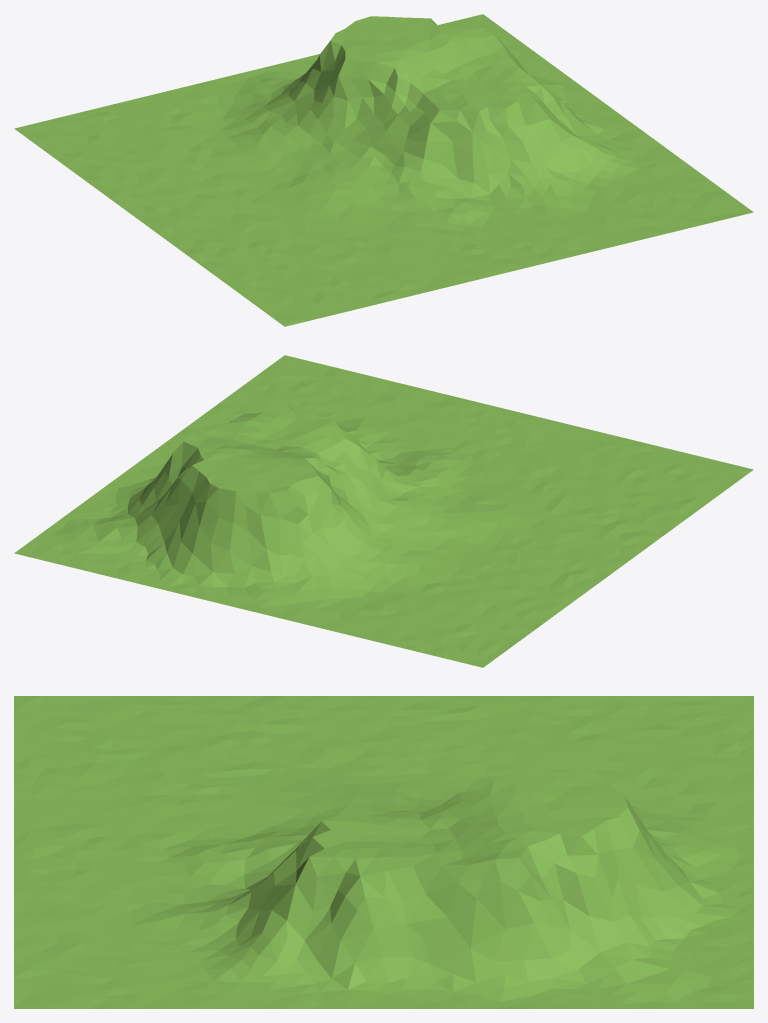
File: MT_Terrain_L_c_19_LOD.fbx
The picture shows the model from 3 angles, top to bottom: view 1: azimuth 30°, elevation 25°; view 2: azimuth 150°, elevation 25°; view 3: azimuth 270°, elevation 25°; orthographic projection. The views are drawn at different scales.
Visible parts, largest first — view 1: MT_Terrain_L_c_19_LOD0; view 2: MT_Terrain_L_c_19_LOD0; view 3: MT_Terrain_L_c_19_LOD0.
Boxes of the visible parts, <box> form: MT_Terrain_L_c_19_LOD0: <box>14,14,753,326</box>; MT_Terrain_L_c_19_LOD0: <box>14,355,753,667</box>; MT_Terrain_L_c_19_LOD0: <box>14,696,753,1008</box>.
Size of what is drawn, in the model's own units: 10000 by 1450 by 10000.
